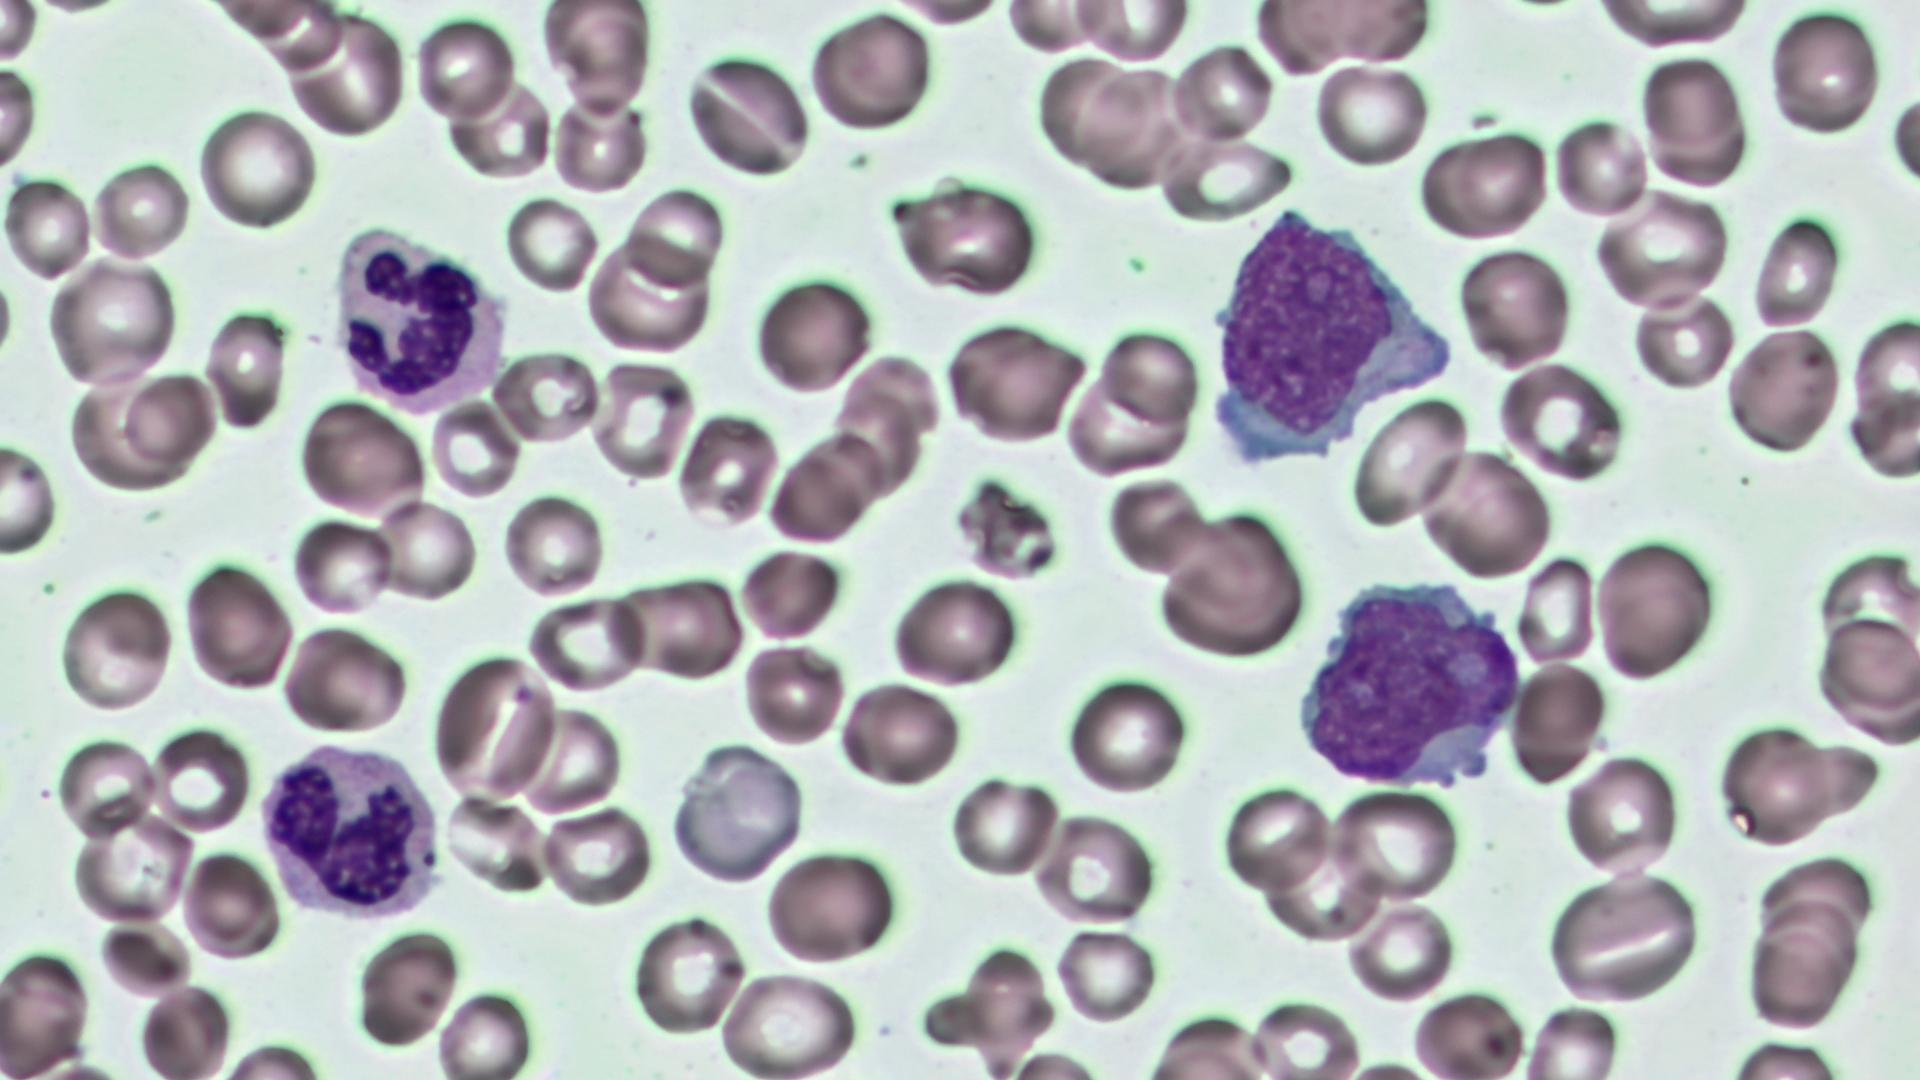RBC: (1544, 870, 1706, 1005), (1150, 534, 1305, 661), (940, 316, 1088, 447), (430, 649, 556, 800), (1418, 444, 1557, 582), (45, 255, 179, 392), (891, 177, 1042, 298), (1593, 535, 1716, 683), (1348, 392, 1472, 534), (762, 843, 899, 969), (680, 47, 811, 179), (1592, 193, 1731, 313), (667, 758, 800, 882), (1725, 323, 1845, 459), (1714, 720, 1840, 849), (285, 7, 407, 138), (1495, 360, 1625, 484), (717, 969, 865, 1077), (1418, 124, 1552, 243), (808, 7, 934, 133), (1455, 243, 1575, 375), (1563, 748, 1683, 880), (887, 571, 1021, 690), (1328, 785, 1462, 902), (67, 369, 193, 495), (194, 105, 316, 233), (584, 233, 713, 355), (752, 270, 873, 400), (628, 909, 746, 1040), (1745, 901, 1862, 1034), (295, 398, 426, 517), (57, 583, 174, 713), (613, 568, 745, 684), (182, 558, 294, 692), (1768, 7, 1882, 138), (1064, 674, 1185, 796), (1033, 808, 1156, 928), (281, 622, 407, 738), (69, 810, 193, 927), (353, 922, 462, 1052), (1033, 53, 1150, 170), (837, 680, 963, 790), (589, 357, 695, 483), (1312, 57, 1429, 169), (546, 0, 657, 117), (675, 410, 782, 530), (1510, 658, 1607, 789), (517, 699, 624, 818), (1154, 132, 1294, 222), (522, 593, 650, 691), (948, 771, 1059, 884), (1221, 782, 1329, 895), (539, 802, 654, 909), (1344, 898, 1458, 1004), (3, 944, 94, 1076), (411, 11, 516, 125), (148, 724, 252, 837), (182, 844, 281, 963), (446, 76, 556, 182), (501, 489, 607, 600), (289, 512, 396, 620), (1098, 320, 1204, 430), (491, 347, 603, 448), (1749, 208, 1842, 330), (740, 640, 844, 748), (376, 495, 477, 605), (55, 731, 156, 843), (1846, 309, 1917, 465), (1408, 985, 1528, 1077), (440, 790, 549, 891), (1168, 41, 1274, 142), (1052, 924, 1159, 1025), (1635, 53, 1743, 152), (91, 156, 191, 261), (1551, 112, 1650, 219), (624, 186, 724, 290), (1630, 290, 1735, 389), (3, 171, 96, 282), (203, 307, 287, 430), (736, 546, 844, 640), (766, 444, 864, 546), (502, 193, 600, 294), (1514, 553, 1598, 669), (429, 396, 524, 498), (551, 94, 644, 196), (135, 981, 233, 1076), (1822, 615, 1917, 713), (123, 367, 216, 467), (434, 986, 537, 1075), (1069, 0, 1192, 65), (1592, 0, 1756, 47), (0, 436, 59, 556), (0, 58, 42, 178), (1882, 73, 1917, 196), (887, 0, 1004, 26), (0, 0, 40, 69)
WBC: (1197, 200, 1461, 471), (1290, 574, 1520, 791), (257, 736, 447, 926), (328, 220, 514, 414)
